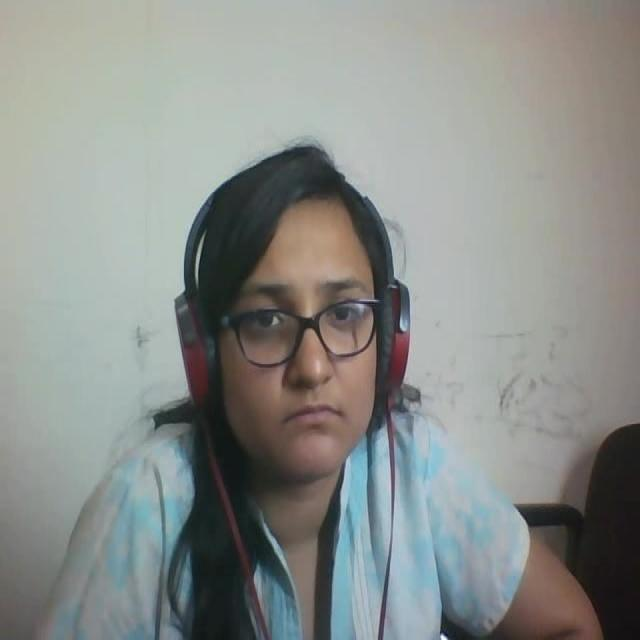Engaged: (169, 139, 440, 495)
